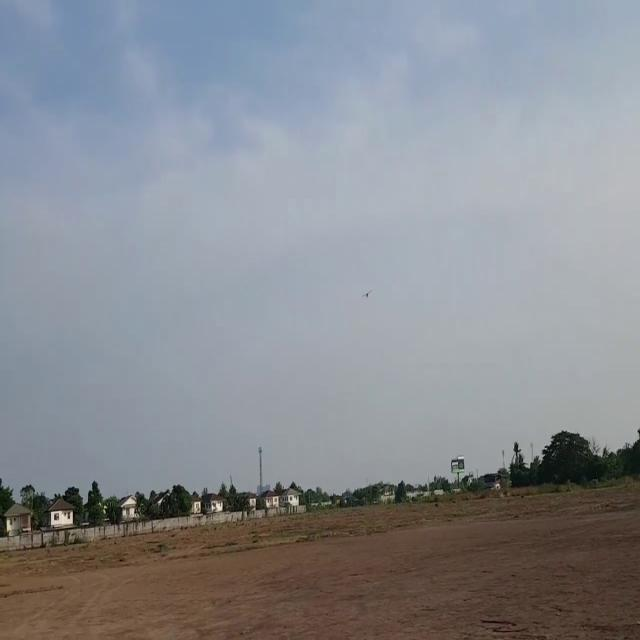iha: (359, 284, 374, 306)
